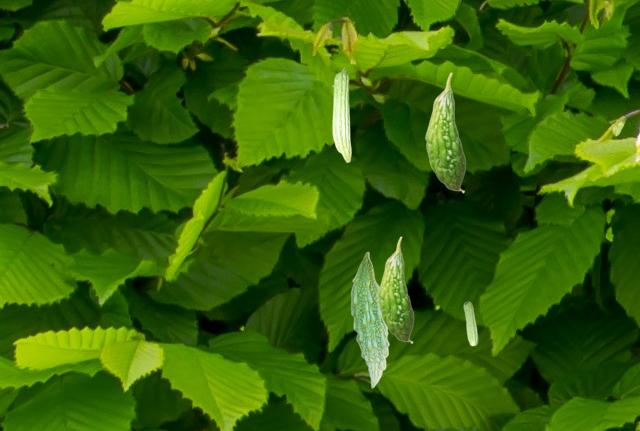ampalaya: (350, 251, 389, 388), (424, 72, 466, 193), (377, 236, 414, 344), (332, 67, 351, 163), (463, 301, 478, 346)
